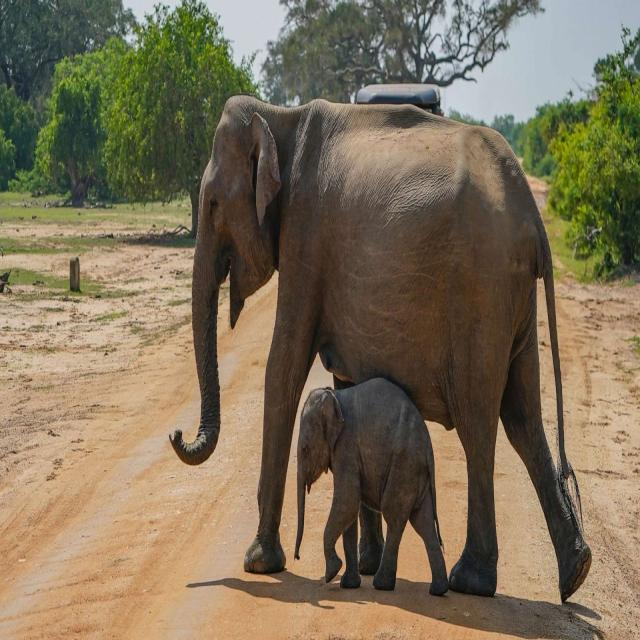Elephant: (167, 93, 595, 622), (282, 372, 458, 602)
